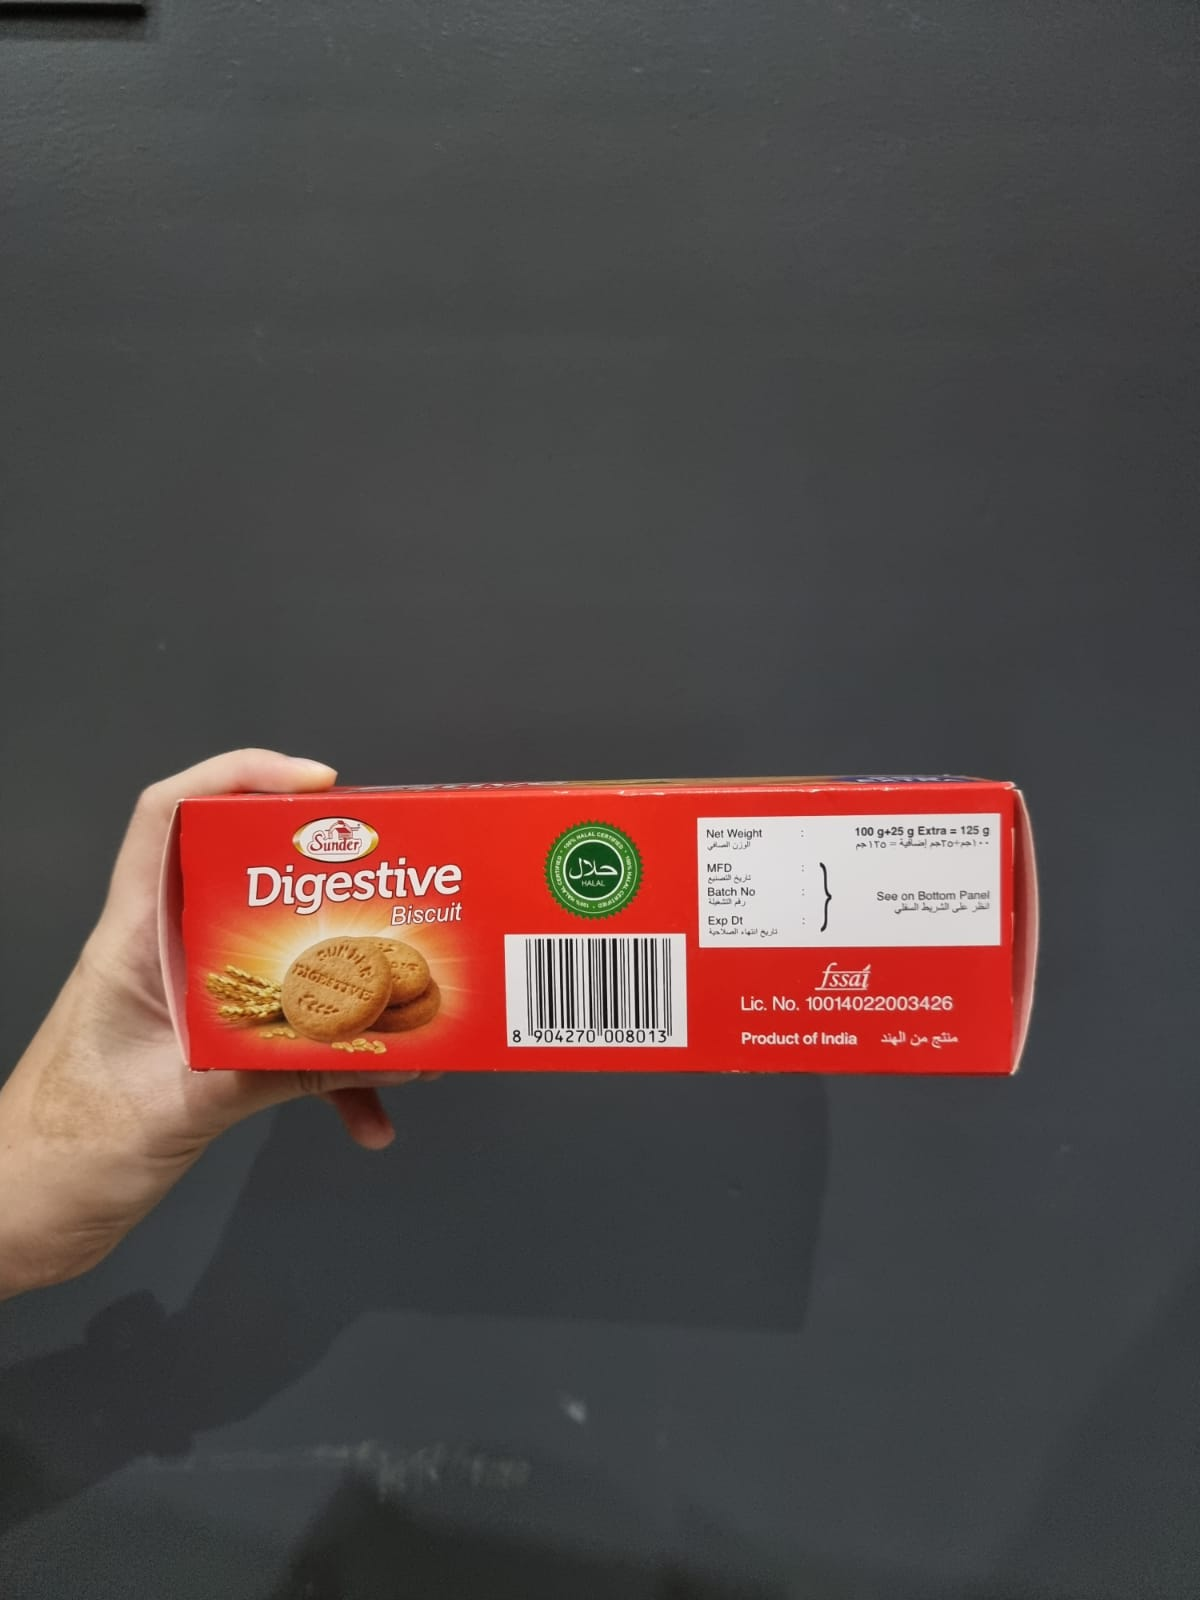Biscuits: (184, 801, 1020, 1060)
